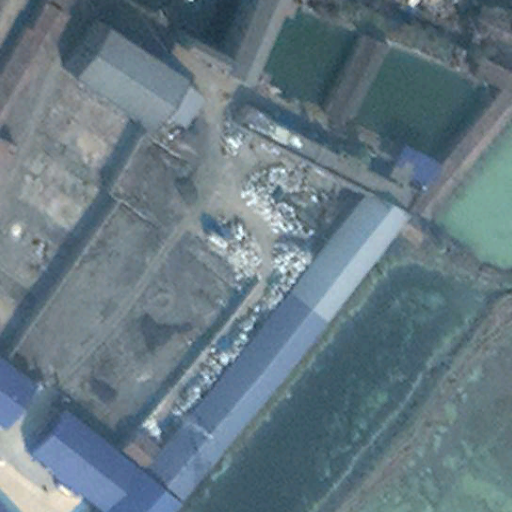msw: (148, 159, 328, 434)
